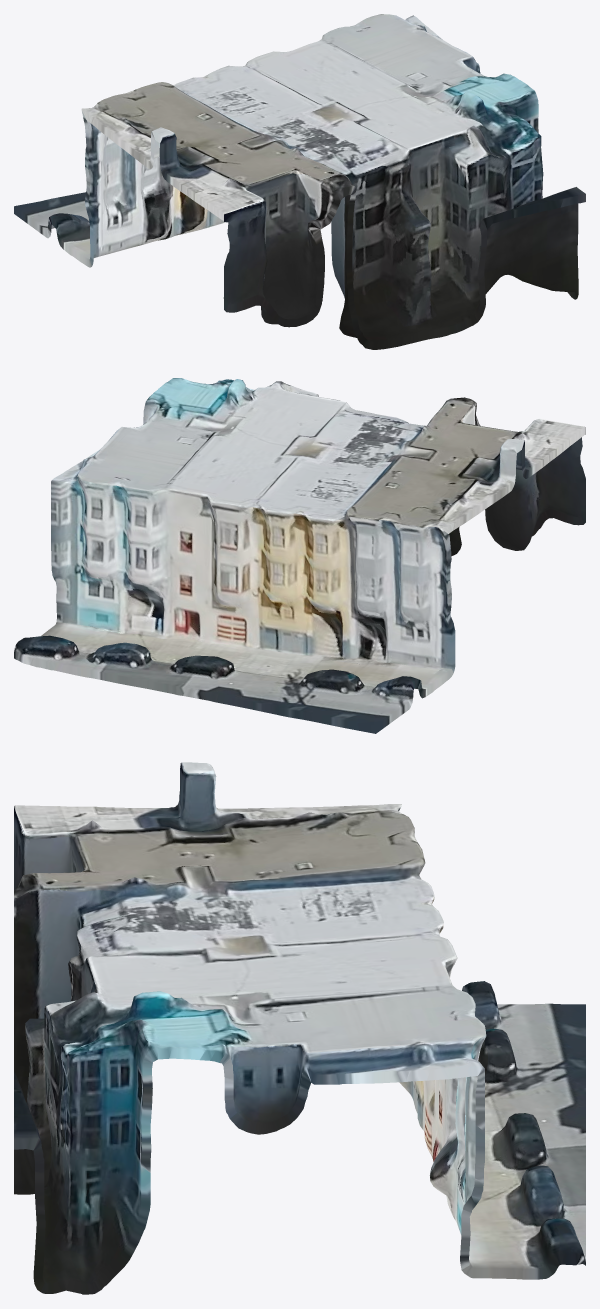
The model's file is z20-167734-405192-h0-yup-uvflip-v3-world.glb.
3 views of the same model, one above another, from view 1: azimuth 30°, elevation 25°; view 2: azimuth 150°, elevation 25°; view 3: azimuth 270°, elevation 25° (orthographic). The views are drawn at different scales.
Size of the model in its own units: 30.16 by 17.08 by 30.32.
Materials: 1 (1 with a texture image).
